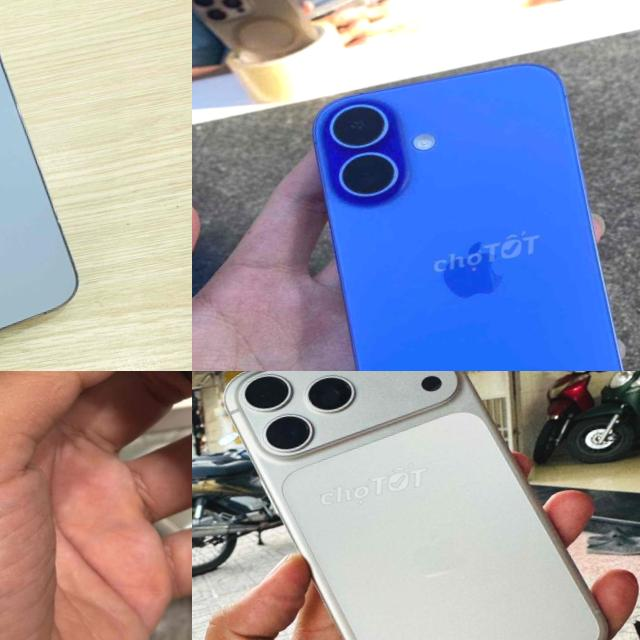gen_12_13: (0, 371, 192, 617), (0, 0, 95, 371)
gen_16: (314, 64, 622, 371)
gen_17: (194, 371, 621, 640)
